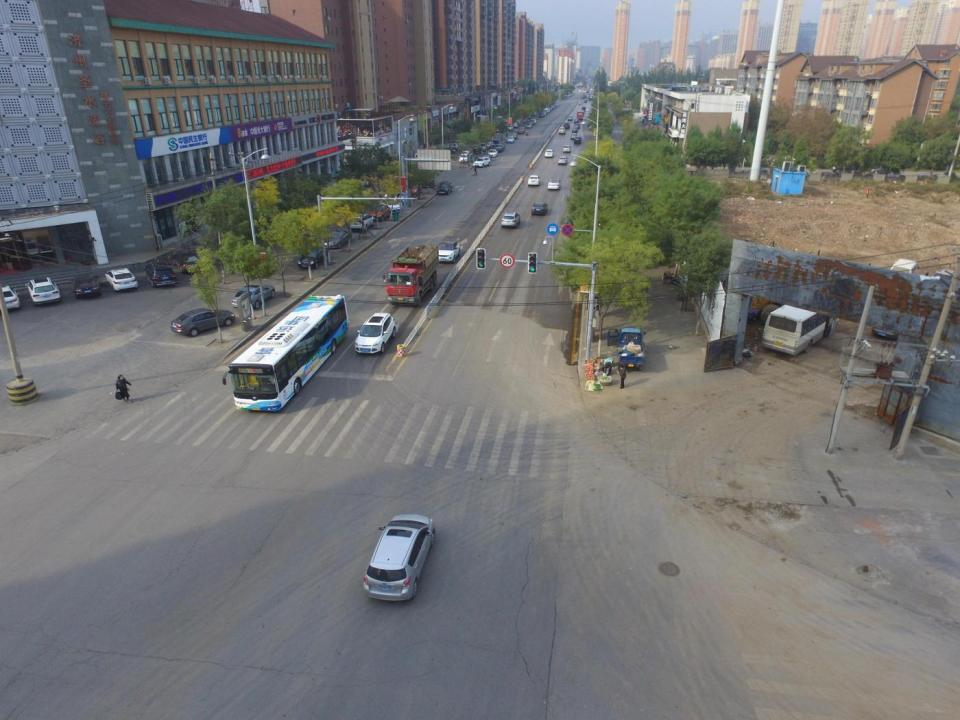bus: (222, 294, 350, 414), (760, 280, 854, 354), (576, 112, 584, 119)
car: (362, 515, 436, 603), (353, 312, 396, 357), (172, 306, 233, 336), (871, 305, 912, 340), (232, 284, 276, 311), (26, 277, 60, 306), (144, 262, 178, 287), (104, 268, 137, 292), (318, 228, 351, 251), (297, 246, 328, 270), (72, 274, 101, 298), (432, 241, 462, 264), (172, 252, 203, 274), (0, 286, 21, 313), (346, 214, 372, 232), (365, 205, 391, 223), (498, 212, 520, 229), (379, 197, 401, 212), (435, 181, 454, 197), (530, 202, 548, 217), (406, 180, 422, 196), (474, 156, 492, 169), (351, 176, 371, 187), (546, 178, 560, 191), (526, 176, 539, 186), (487, 150, 498, 159), (543, 150, 555, 158), (461, 150, 472, 158), (444, 143, 458, 149), (561, 145, 572, 152), (558, 156, 566, 165), (459, 154, 468, 162), (494, 144, 503, 152), (451, 141, 463, 146), (574, 137, 582, 144), (558, 127, 565, 135), (498, 142, 505, 150), (518, 126, 525, 134), (563, 122, 570, 129), (510, 133, 518, 139), (493, 136, 501, 142), (526, 122, 533, 128), (573, 123, 580, 129), (570, 133, 576, 140), (529, 121, 535, 126), (531, 119, 537, 124), (567, 115, 573, 120), (573, 118, 579, 123), (572, 128, 577, 132)
truck: (382, 244, 437, 305), (612, 328, 646, 373)
